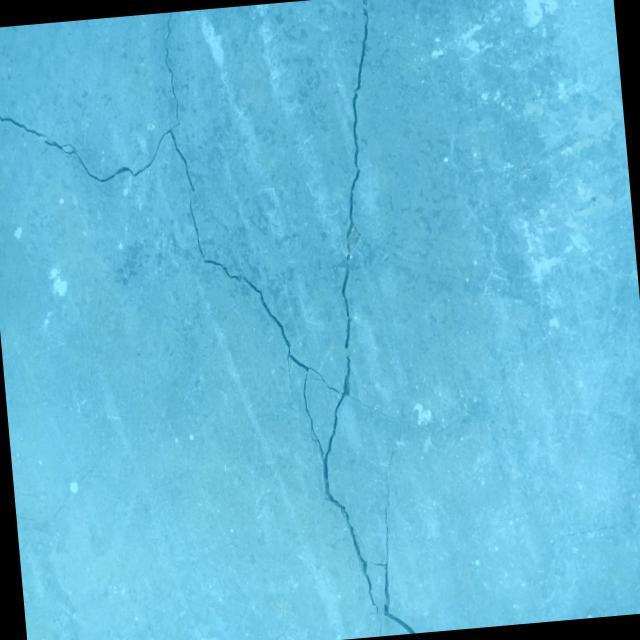crack: (0, 0, 423, 640), (377, 619, 384, 636)
